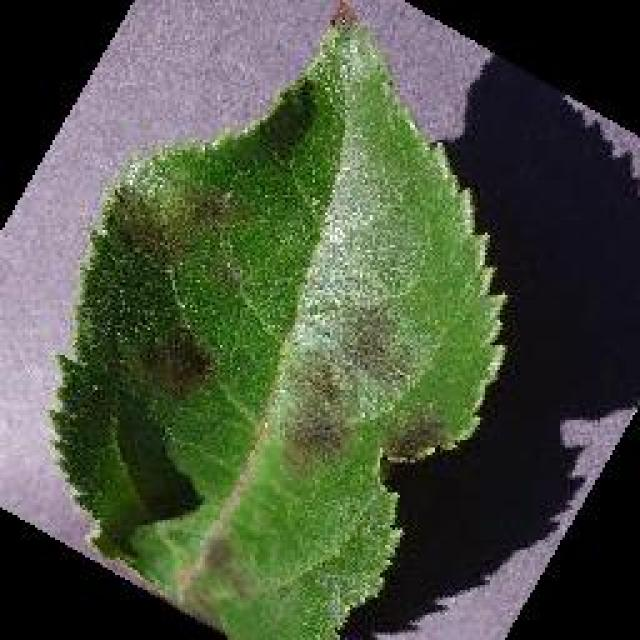apple scab disease: (45, 0, 510, 638)
